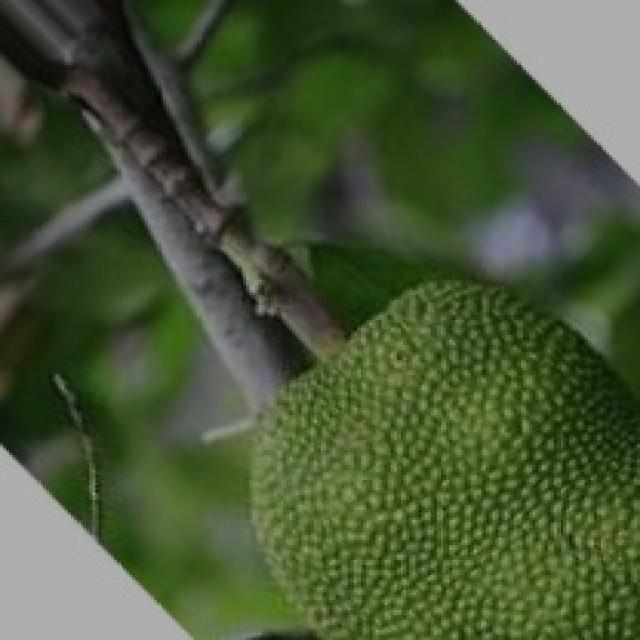Fruit: (221, 255, 640, 640)
